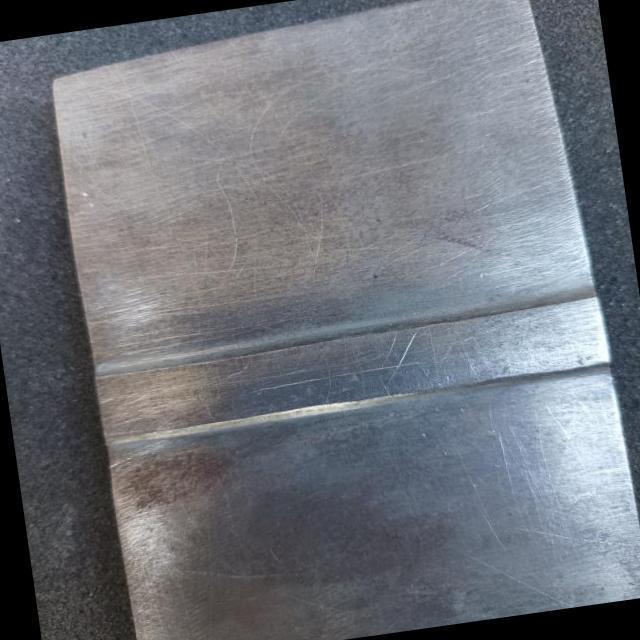defect: (250, 360, 433, 393)
